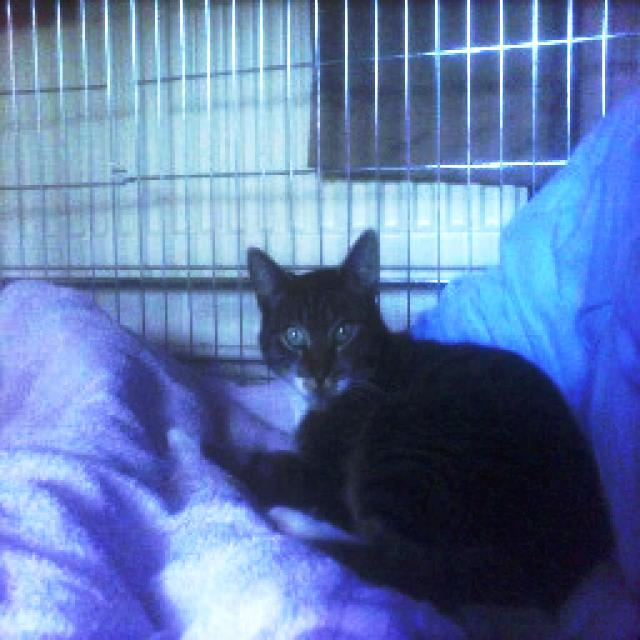cat: (242, 243, 618, 610)
